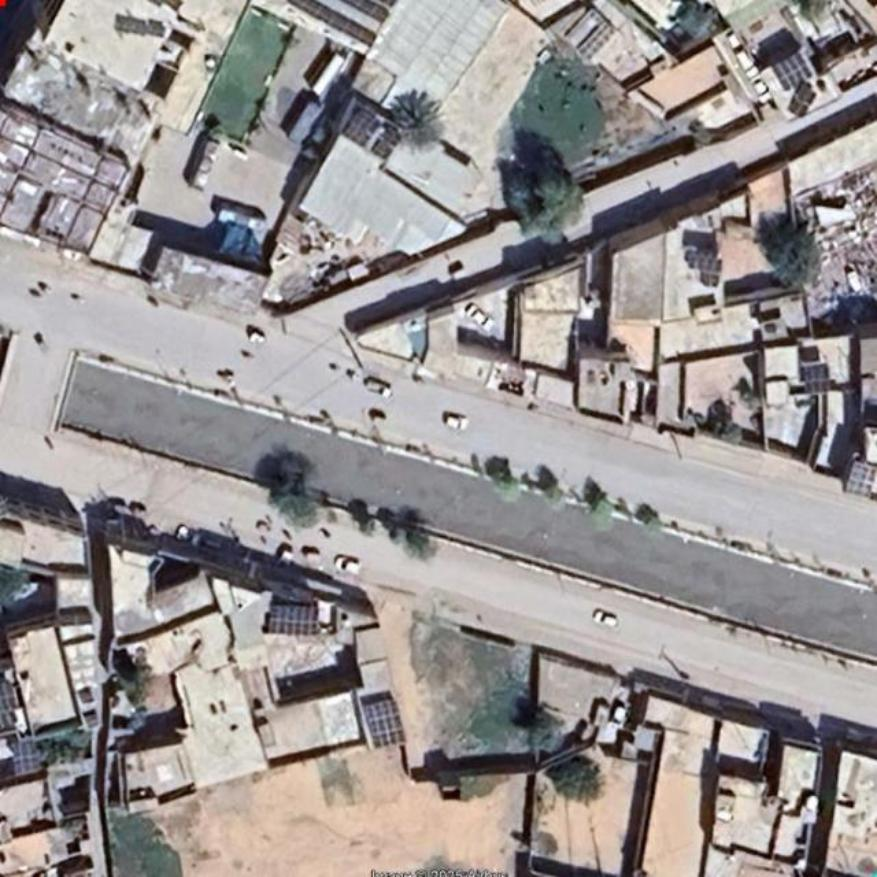Solarpanel: (362, 697, 403, 749), (771, 55, 814, 91), (269, 604, 317, 631), (15, 741, 43, 777), (689, 255, 721, 271)
